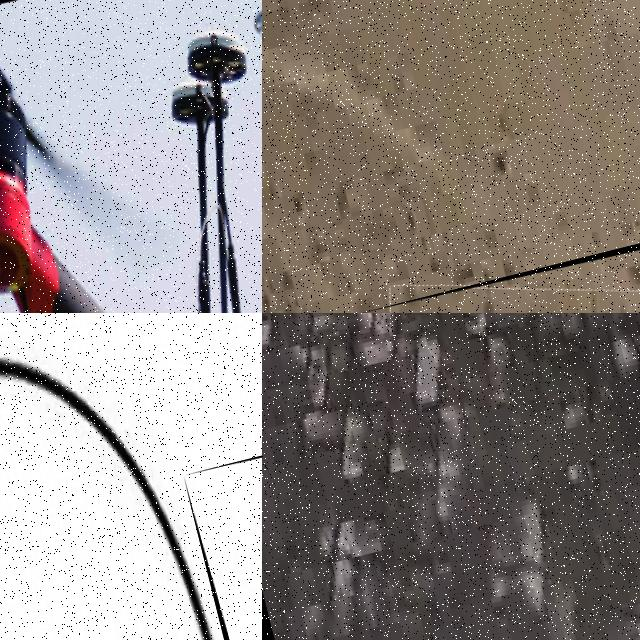0: (356, 226, 640, 313)
drone: (0, 0, 262, 313), (183, 374, 262, 640)
